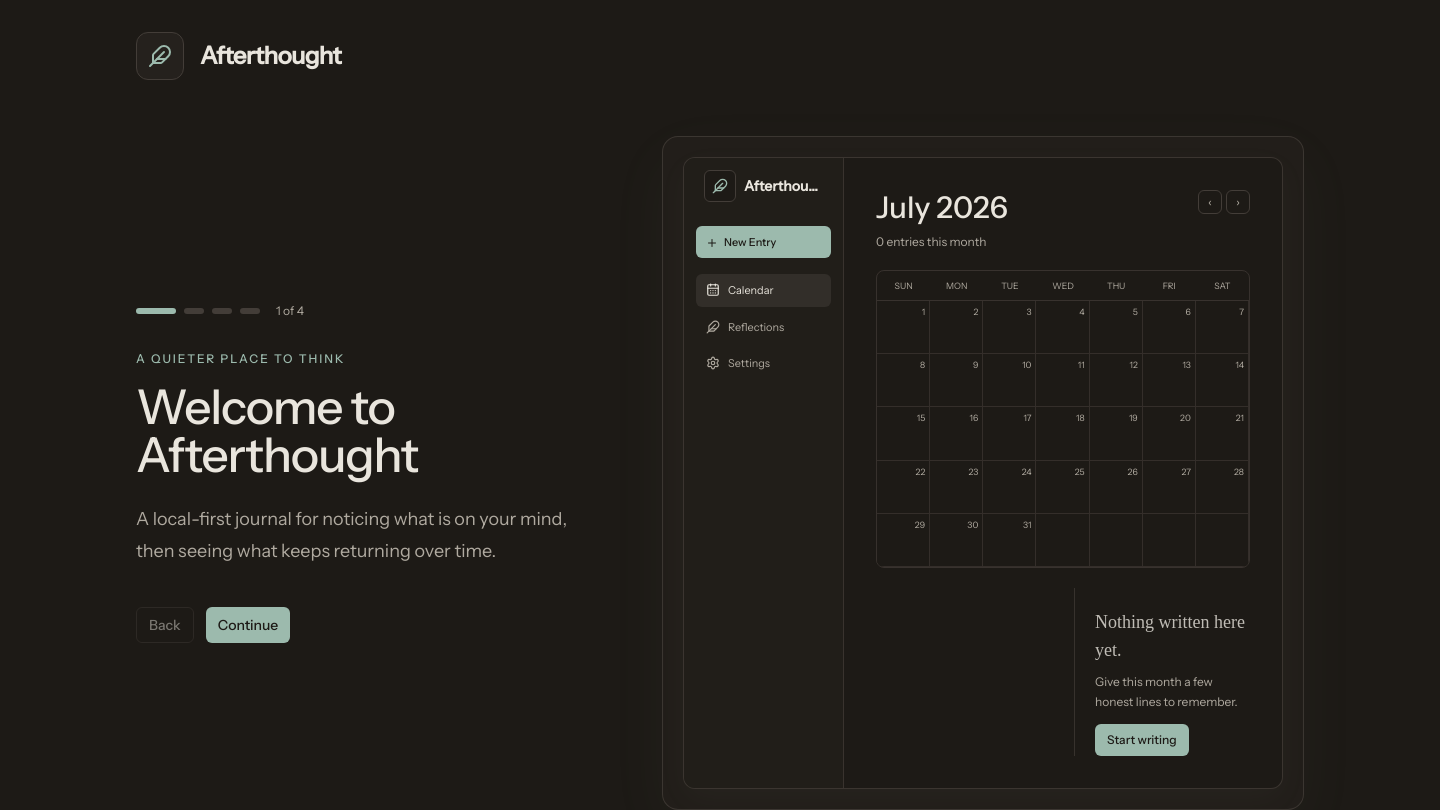
Test: OnboardingPage › starts on the welcome slide and advances to the writing slide
Expected: the heading "Welcome to Afterthought" is shown, [136, 377, 418, 484]
Expected: the text "1 of 4" is shown, [276, 303, 304, 319]
Click the button "Continue" at [248, 625], box [206, 607, 290, 643]
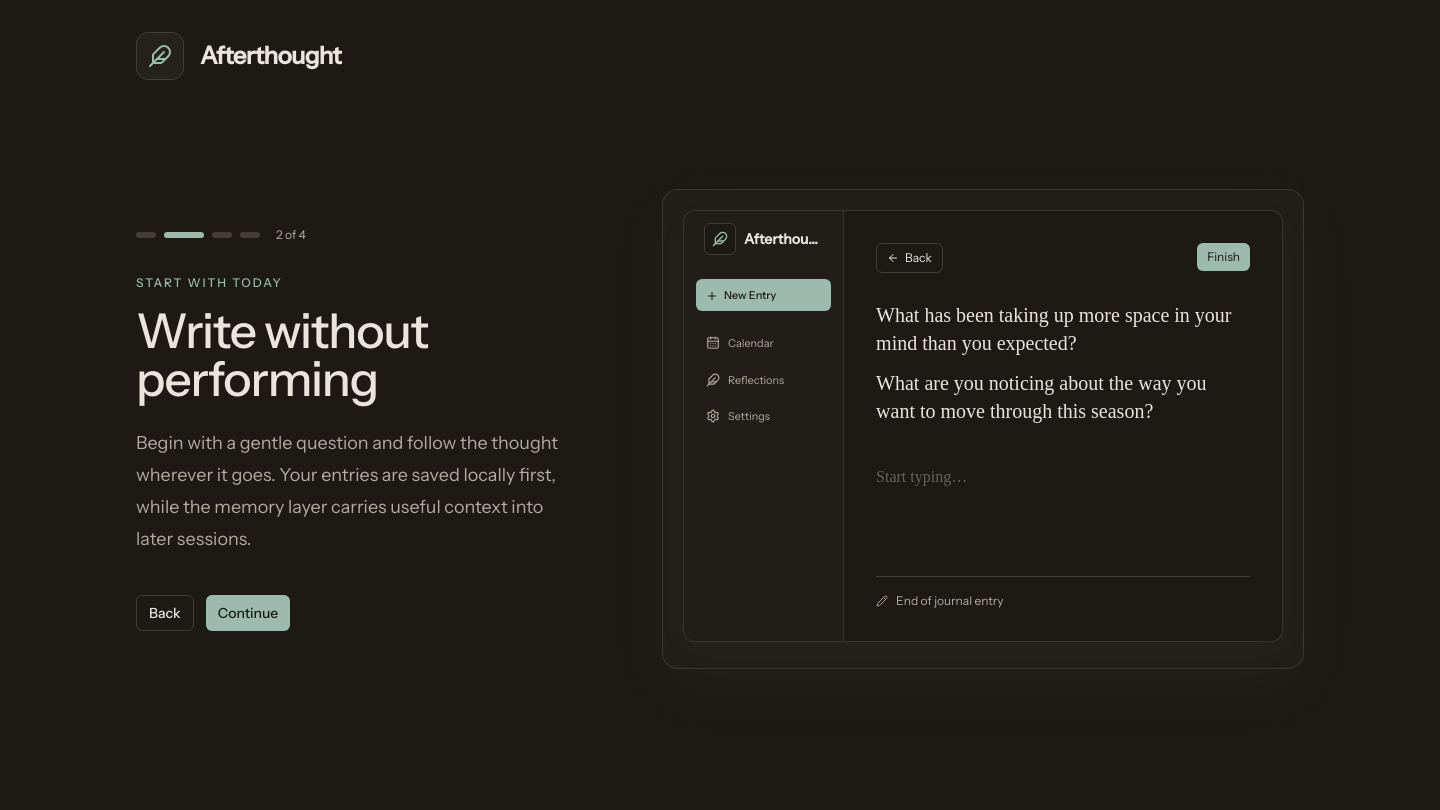
Expected: the heading "Write without performing" is shown, [136, 301, 428, 408]
Expected: the text "2 of 4" is shown, [276, 227, 306, 243]
